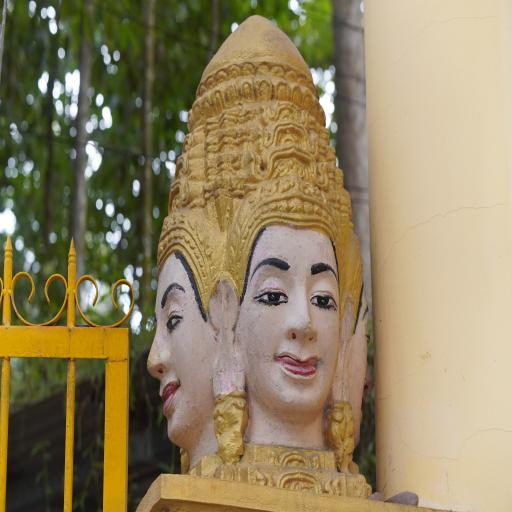than: (120, 0, 417, 512)
